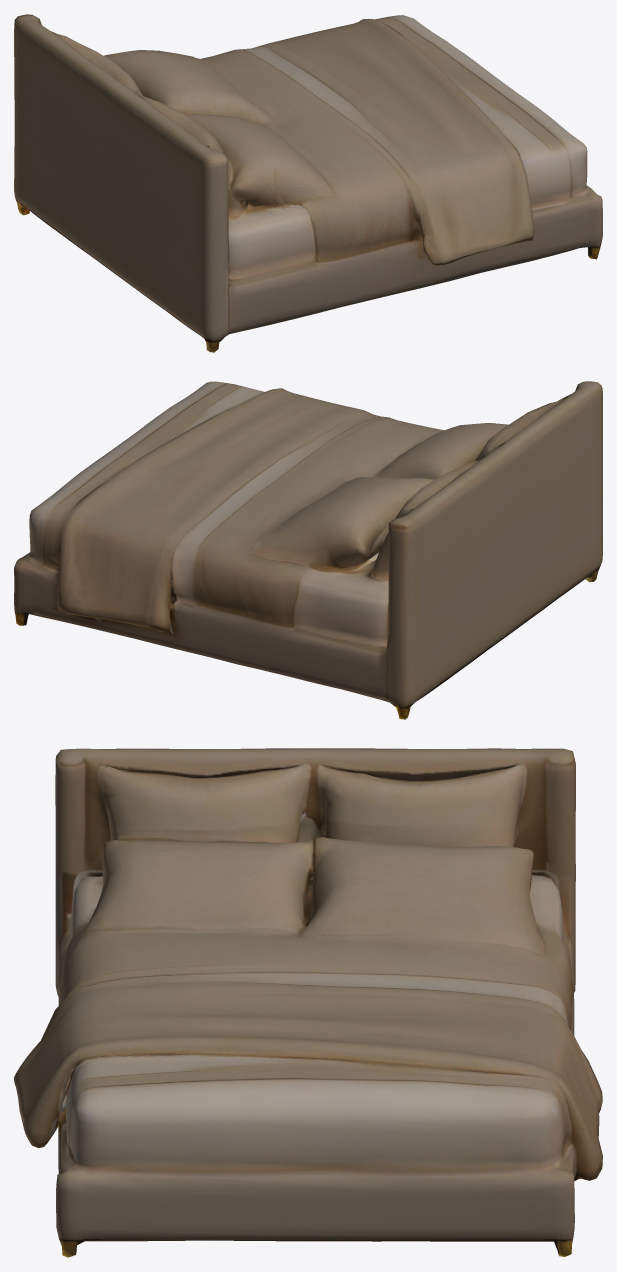
Rendered from tripo_convert_5817cb12-5f16-45f8-b345-586e331dc41c.fbx.
3 renders of one model, top to bottom at view 1: azimuth 30°, elevation 25°; view 2: azimuth 150°, elevation 25°; view 3: azimuth 270°, elevation 25°, orthographic. The views are drawn at different scales.
Visible parts, largest first — view 1: tripo_node_5817cb12; view 2: tripo_node_5817cb12; view 3: tripo_node_5817cb12.
Boxes of the visible parts, box(x1,y1,x2,y2) form: tripo_node_5817cb12: box(14, 14, 602, 352); tripo_node_5817cb12: box(14, 381, 602, 719); tripo_node_5817cb12: box(14, 748, 602, 1257).
Bounding box in the file's own units: 99.98 × 47.42 × 97.13.
Materials: 1 (1 with a texture image).
